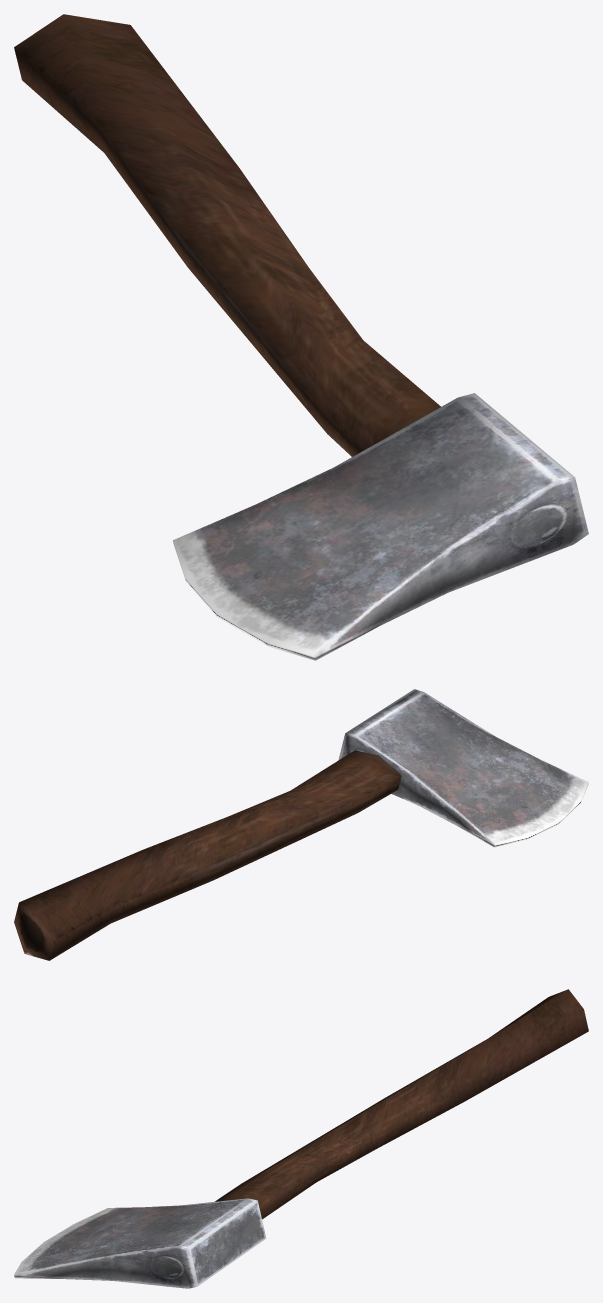
File: axe-base.glb
3 views of the same model, one above another, from view 1: azimuth 30°, elevation 25°; view 2: azimuth 150°, elevation 25°; view 3: azimuth 330°, elevation 25° (orthographic). The views are drawn at different scales.
Size of the model in its own units: 0.3418 by 0.1089 by 0.8482.
1 material, 1 textured.
